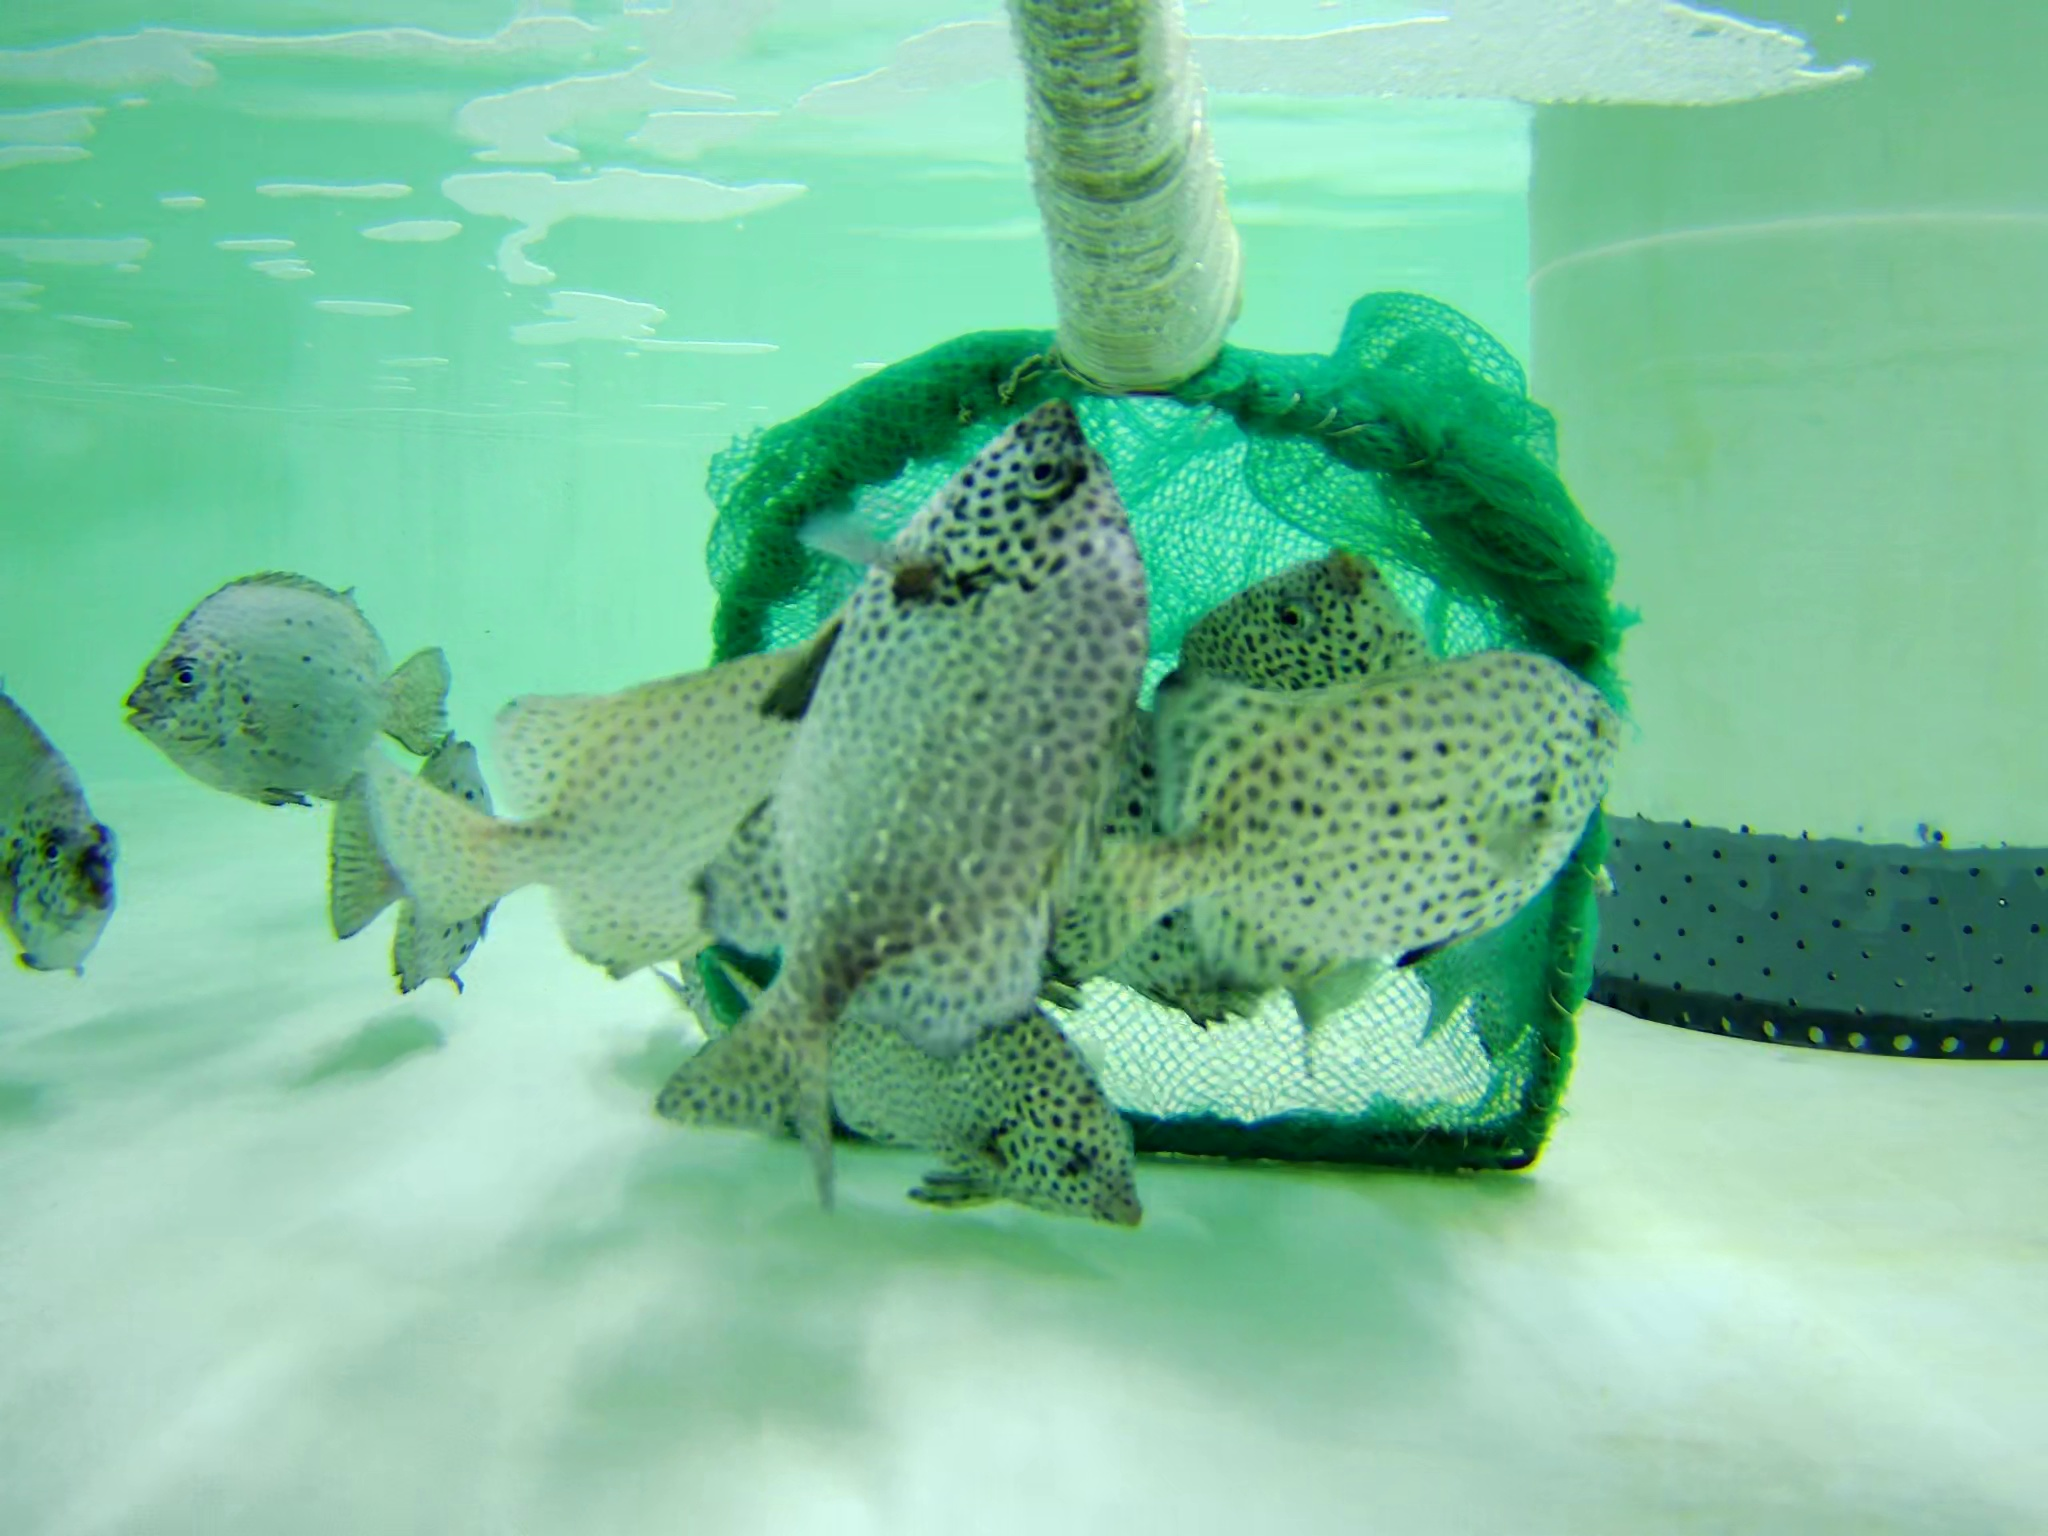fish: (663, 392, 1129, 1167), (1042, 645, 1624, 1000), (368, 660, 892, 954), (706, 926, 1161, 1242), (1179, 550, 1445, 1033), (116, 576, 455, 789), (335, 741, 527, 1010), (1097, 731, 1264, 1031), (2, 687, 114, 994)
